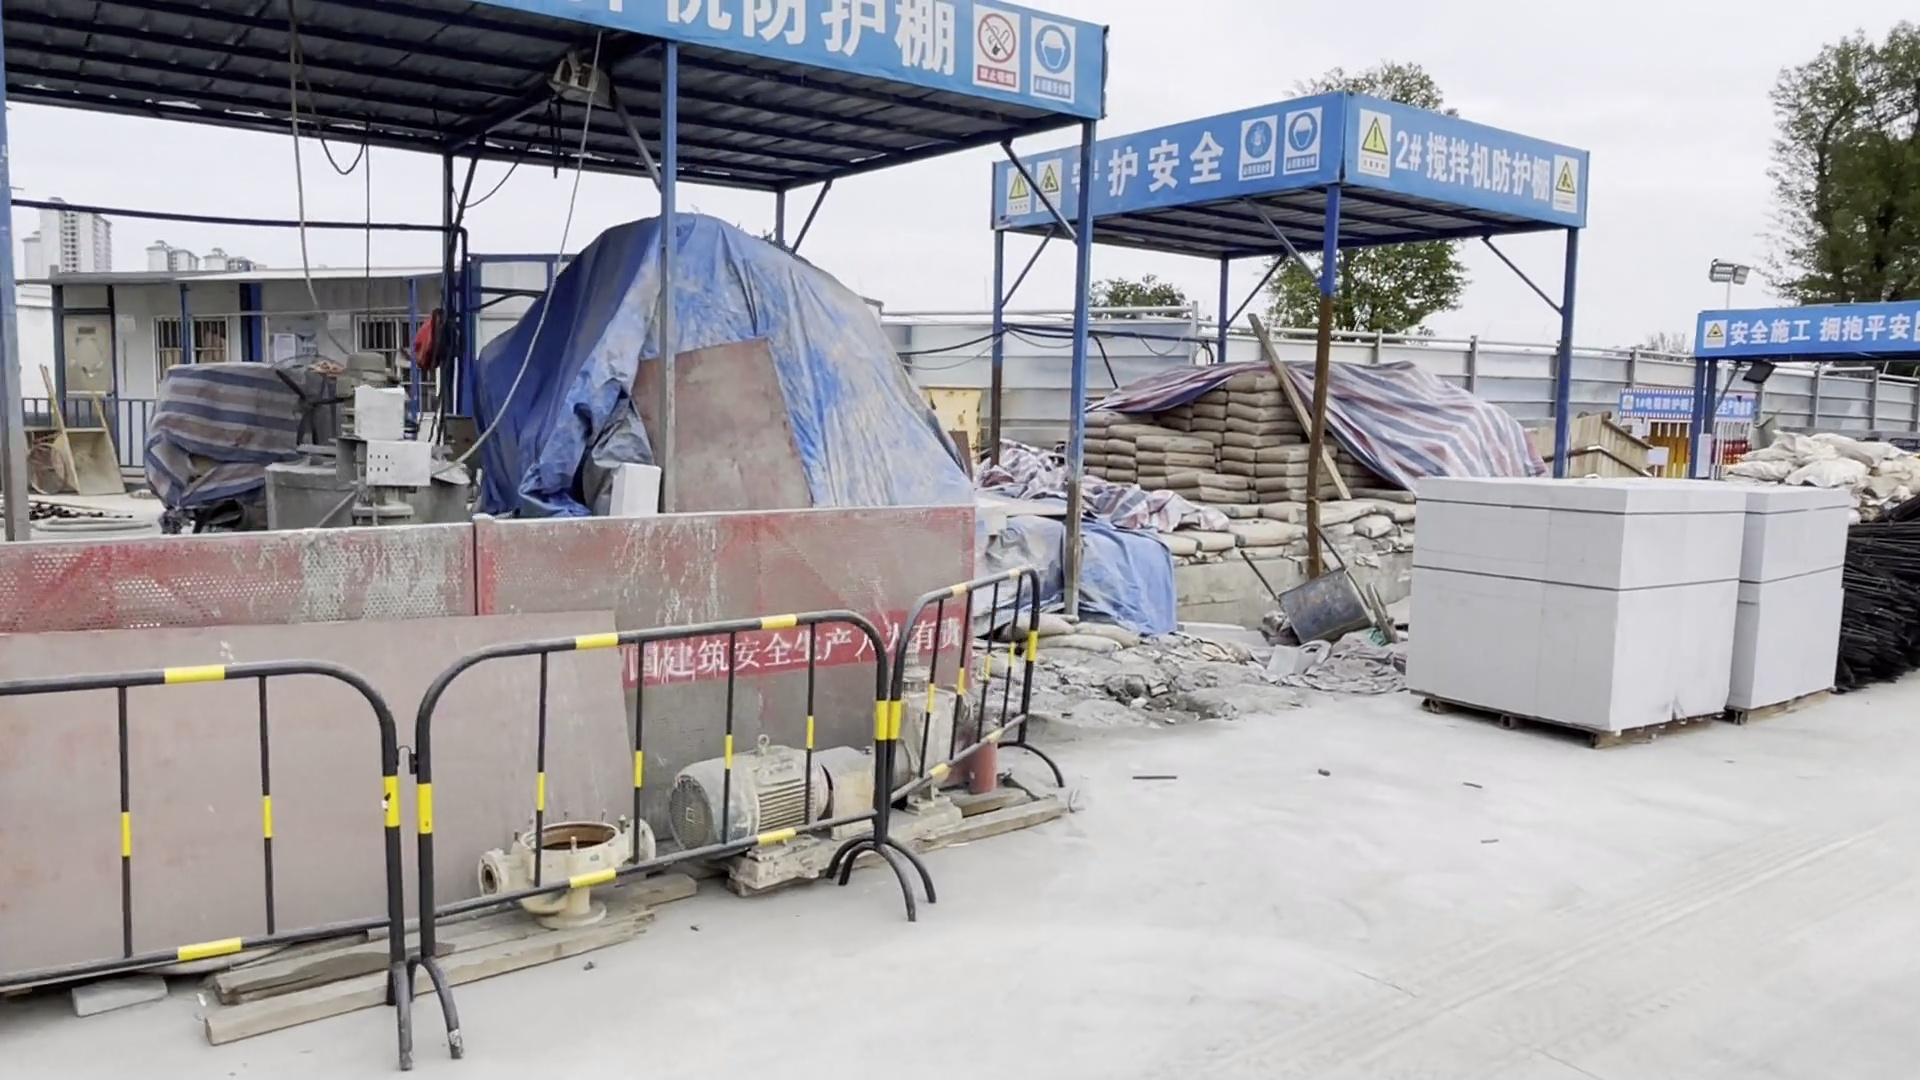brick: (1396, 471, 1734, 762), (1705, 473, 1850, 740)
slogan: (607, 1, 1091, 117), (1077, 127, 1226, 211), (1701, 311, 1920, 344), (1236, 113, 1324, 174), (1000, 157, 1064, 218)
